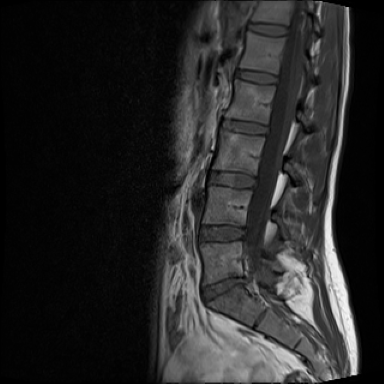Lumbar Disc Bulge LDB: (197, 271, 250, 306)
Normal IVD: (201, 164, 261, 194), (214, 110, 272, 140), (192, 217, 248, 247), (230, 64, 283, 89), (240, 20, 290, 40)
